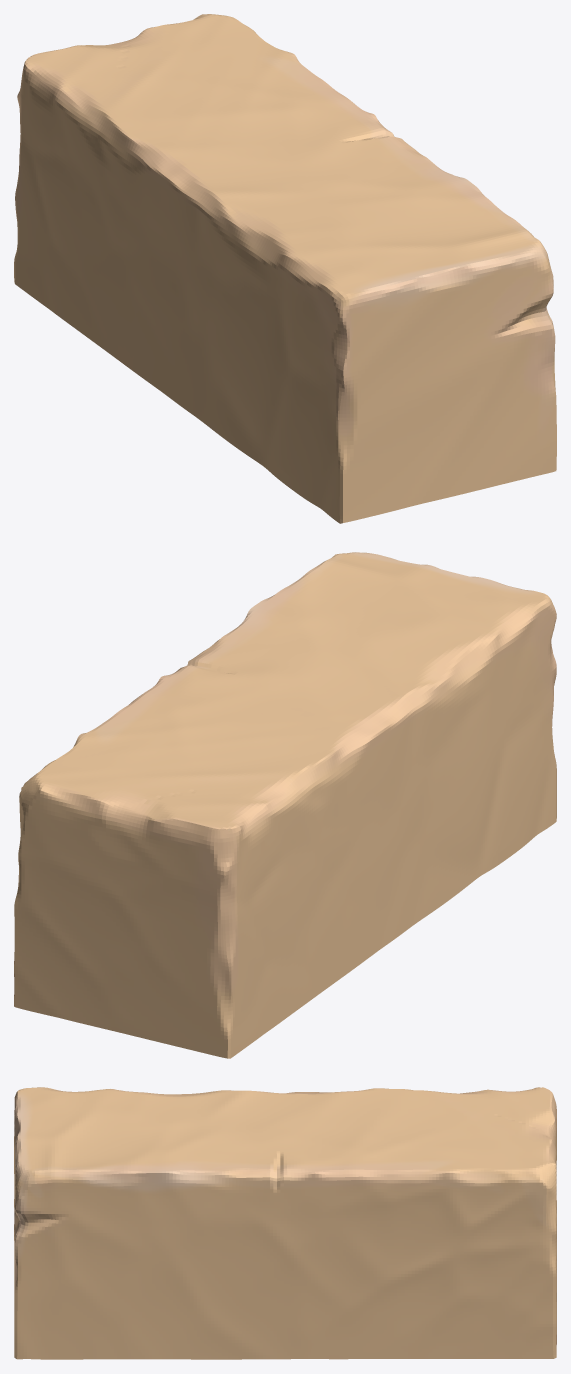
File: floor02.fbx
3 views of the same model, one above another, from view 1: azimuth 30°, elevation 25°; view 2: azimuth 150°, elevation 25°; view 3: azimuth 270°, elevation 25° (orthographic). The views are drawn at different scales.
Parts seen in each view (by area): view 1: Cube; view 2: Cube; view 3: Cube.
Boxes of the visible parts, x1,y1,x2,y2 form: Cube: (14,14,556,523); Cube: (14,552,556,1058); Cube: (14,1087,556,1359).
Bounding box in the file's own units: 3581 × 3593 × 9397.
